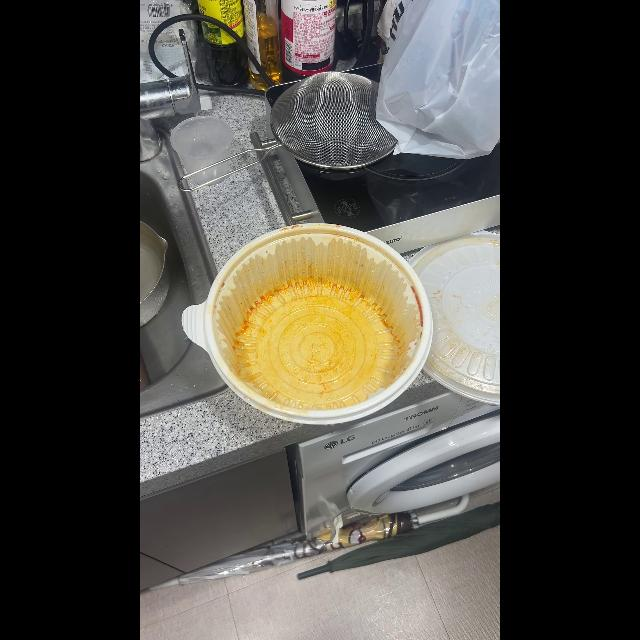dirty: (206, 226, 427, 417)
